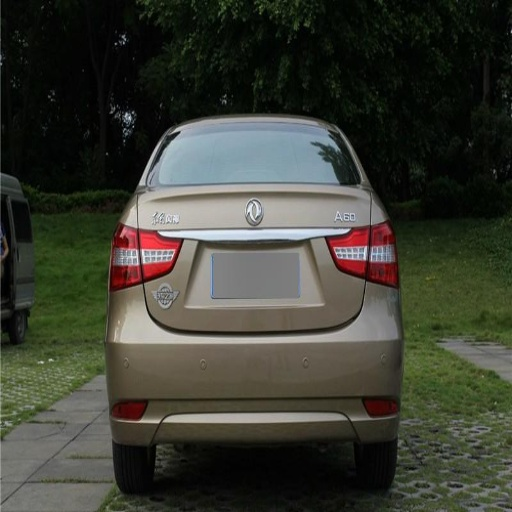back_bumper: (110, 281, 396, 448)
